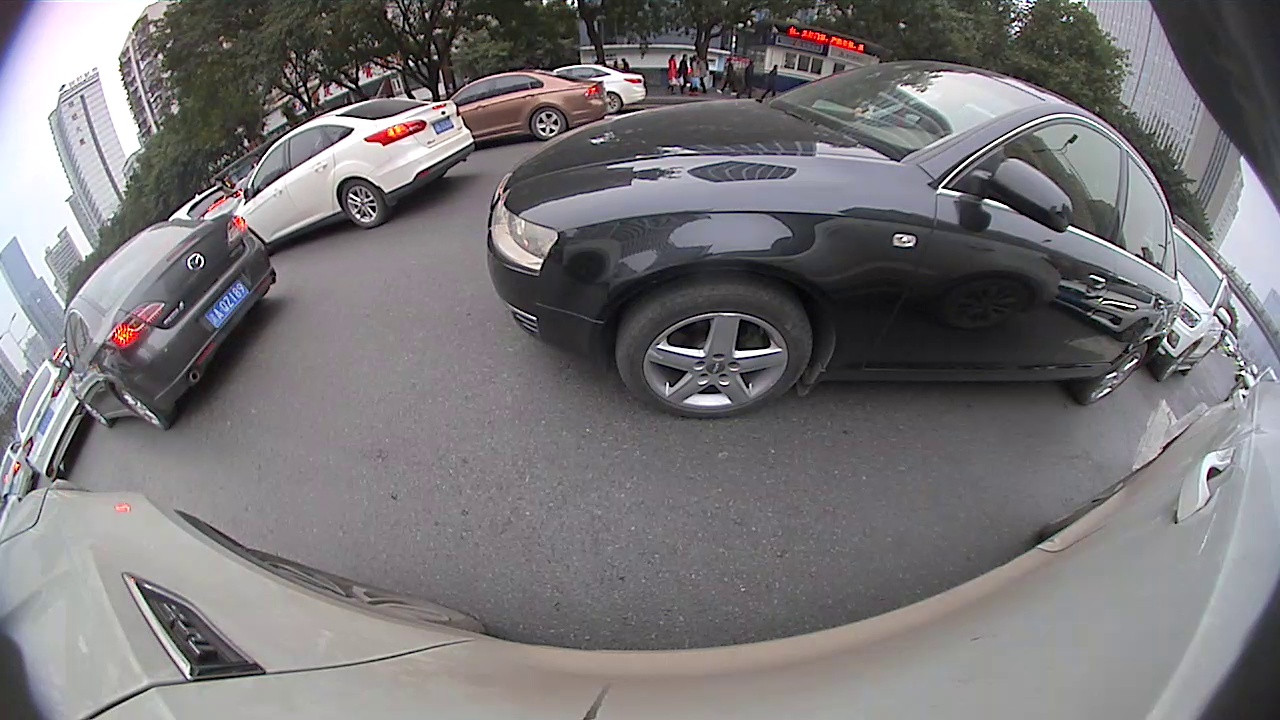car: (486, 58, 1182, 416), (61, 209, 278, 434), (232, 95, 475, 244), (1151, 225, 1231, 384), (446, 71, 612, 139), (12, 354, 91, 480), (553, 66, 648, 111), (167, 177, 247, 216), (3, 444, 33, 506)
front: (613, 279, 812, 417), (1157, 346, 1195, 383), (80, 403, 114, 429)
rear: (1079, 342, 1151, 405), (115, 383, 169, 430), (341, 179, 385, 228), (529, 106, 565, 141), (601, 93, 621, 114)
